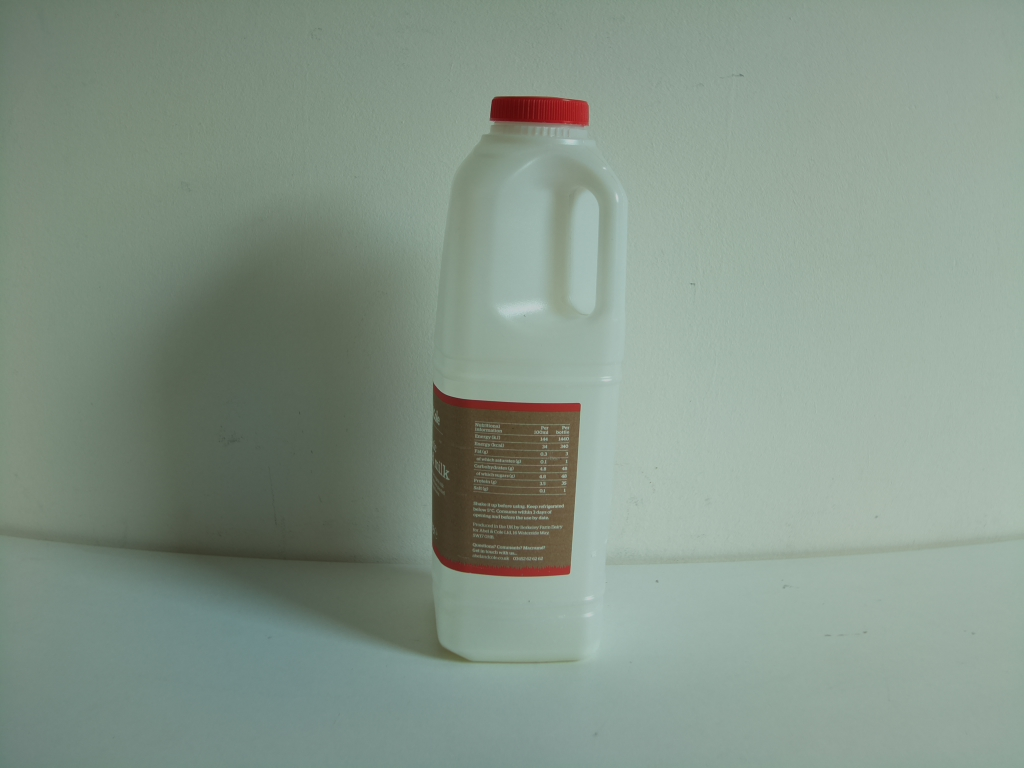milk: (422, 94, 638, 666)
